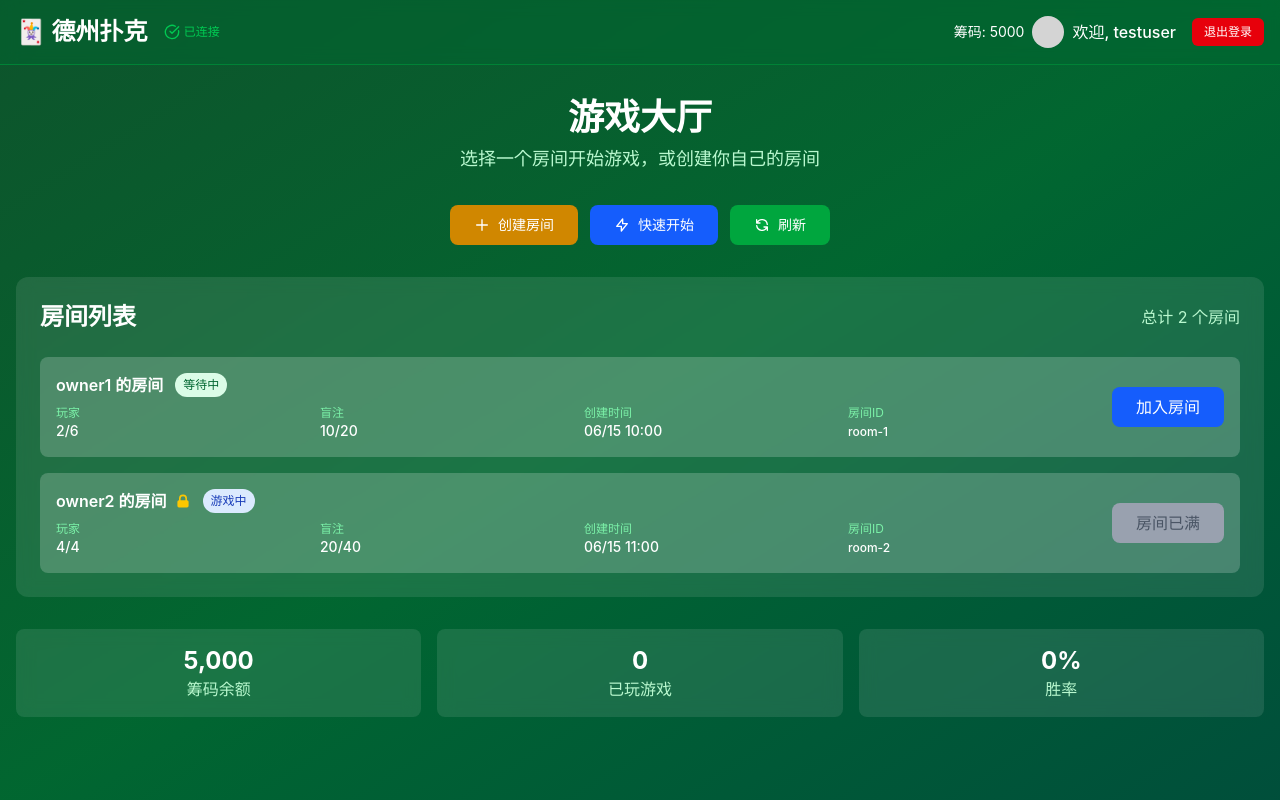
Test: LobbyPage › Quick Start Functionality › should show loading state during quick start
The image size is (1280, 800).
Click the button "快速开始" at (654, 225), box [590,205,718,245]
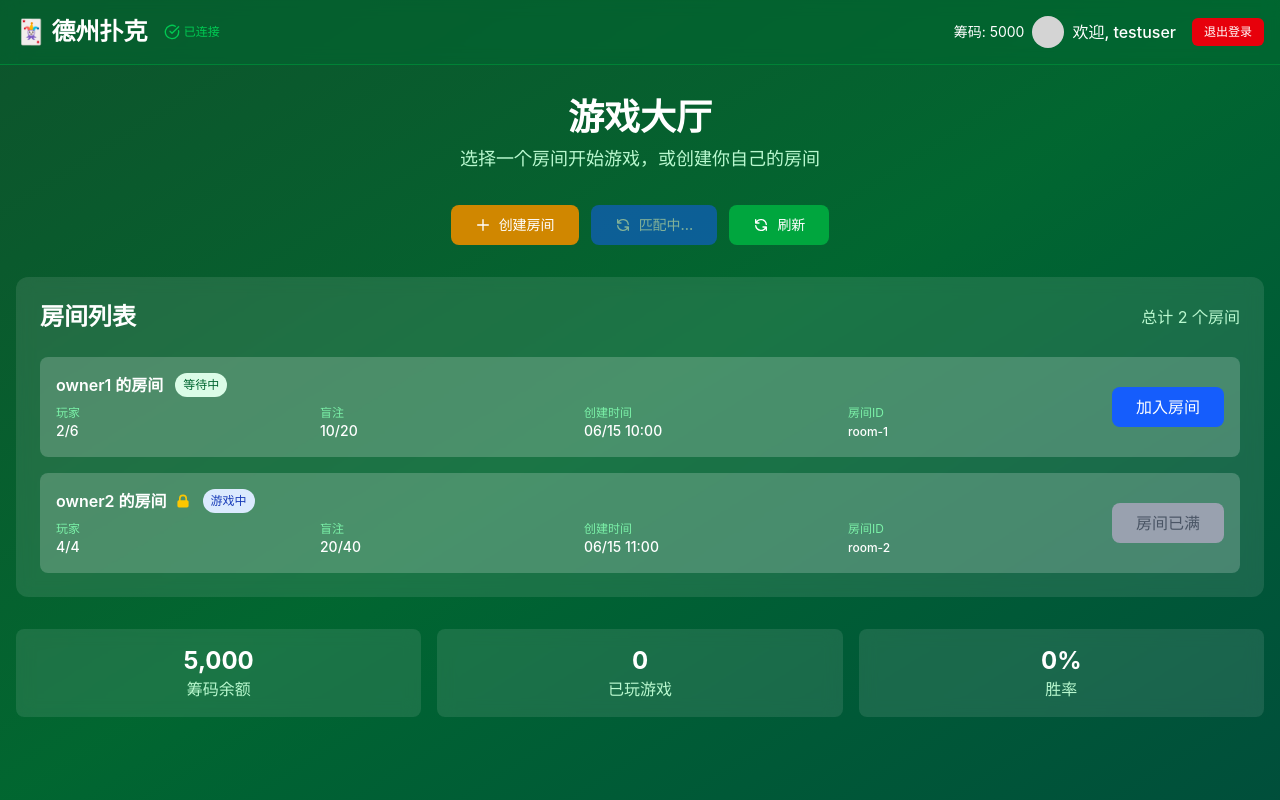
expect the button "匹配中..." is disabled: met, box [591,205,717,245]
